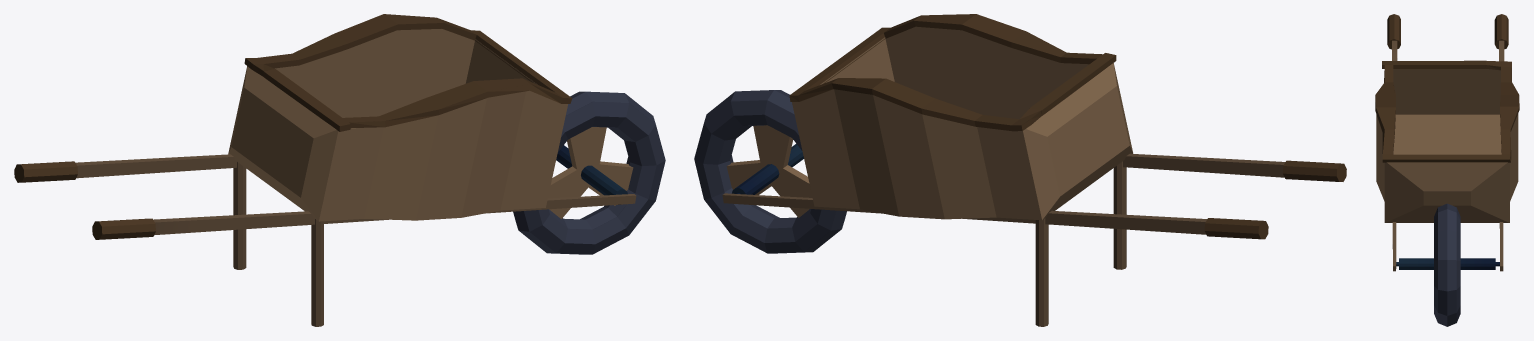
Rendered from CUPIC_WHEELBARROW.gltf.
3 renders of one model, left to right at view 1: azimuth 30°, elevation 25°; view 2: azimuth 150°, elevation 25°; view 3: azimuth 270°, elevation 25°, orthographic. The views are drawn at different scales.
Visible parts, largest first — view 1: node-0; view 2: node-0; view 3: node-0.
Boxes of the visible parts, <box> form: node-0: <box>14,14,665,326</box>; node-0: <box>694,14,1346,326</box>; node-0: <box>1375,14,1519,326</box>.
Size of the model in its own units: 395 by 149 by 118.
1 material, 1 textured.
